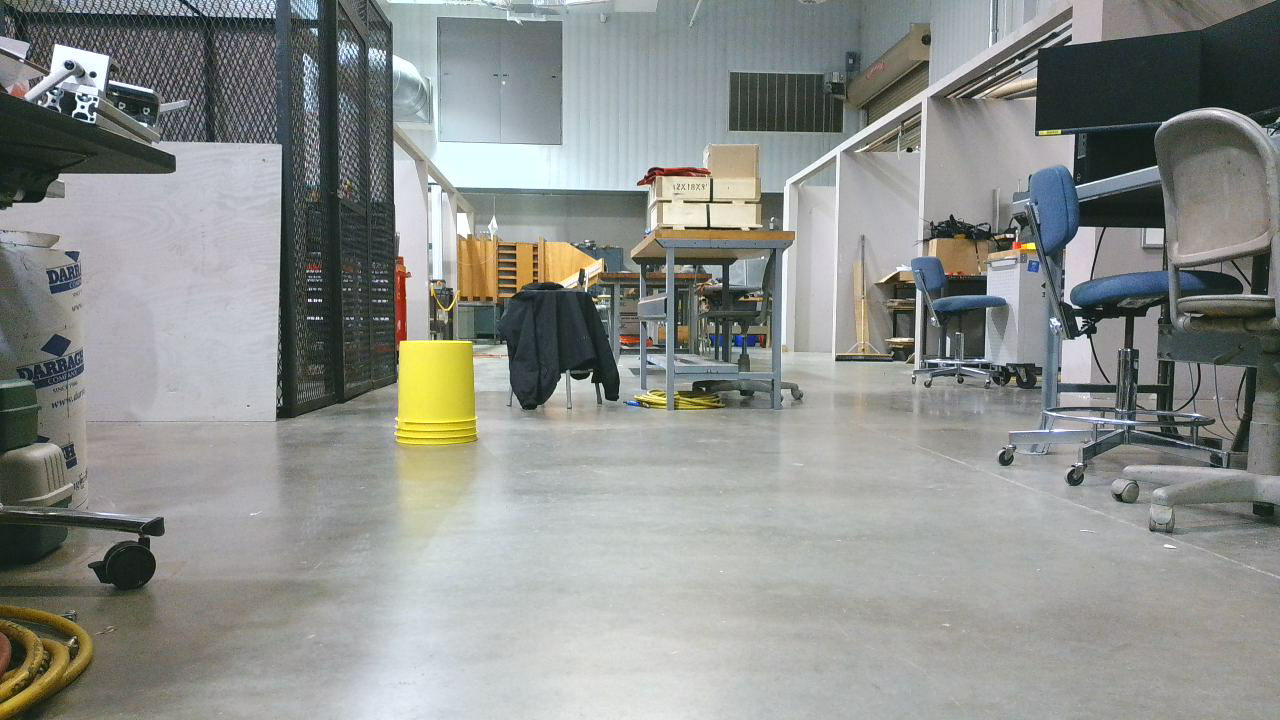yellow_bucket: (402, 339, 483, 451)
